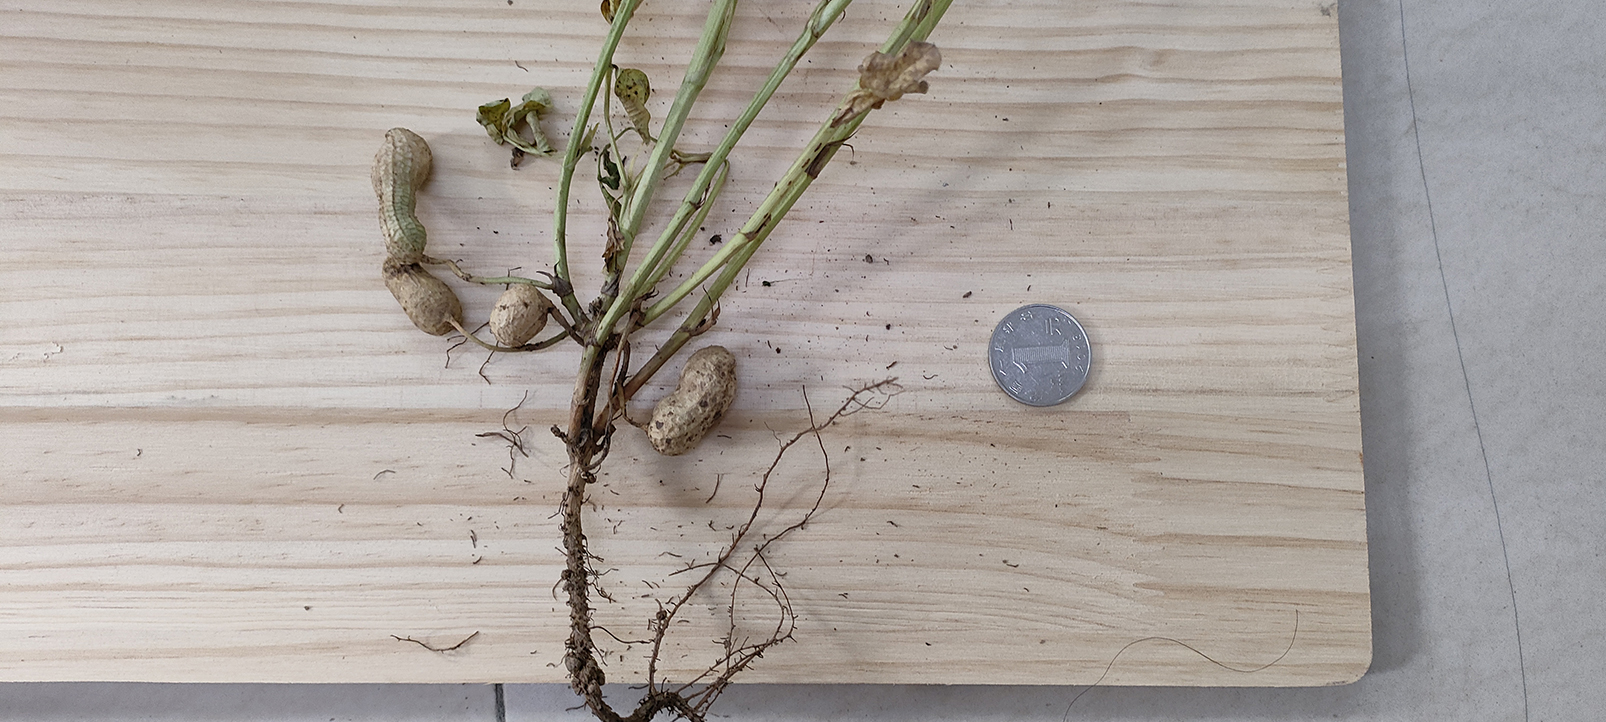h: (650, 346, 732, 457), (371, 127, 433, 264), (380, 265, 461, 334), (489, 286, 550, 349)
